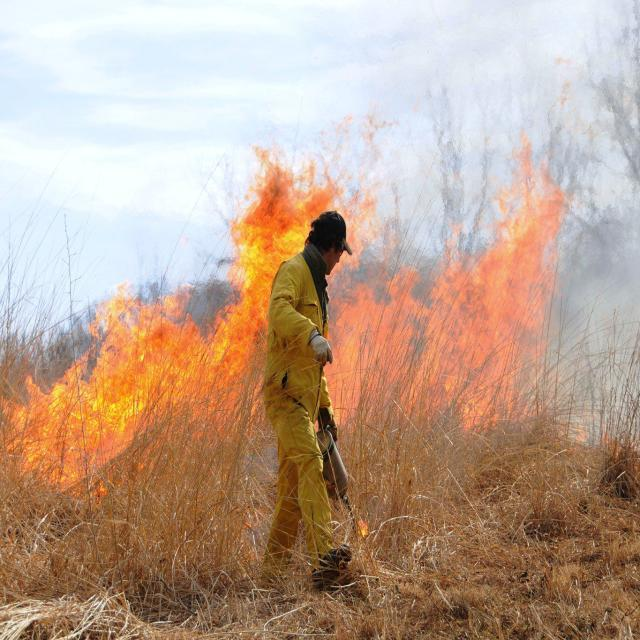Fire: (1, 124, 591, 507)
Smoke: (467, 0, 640, 453)
